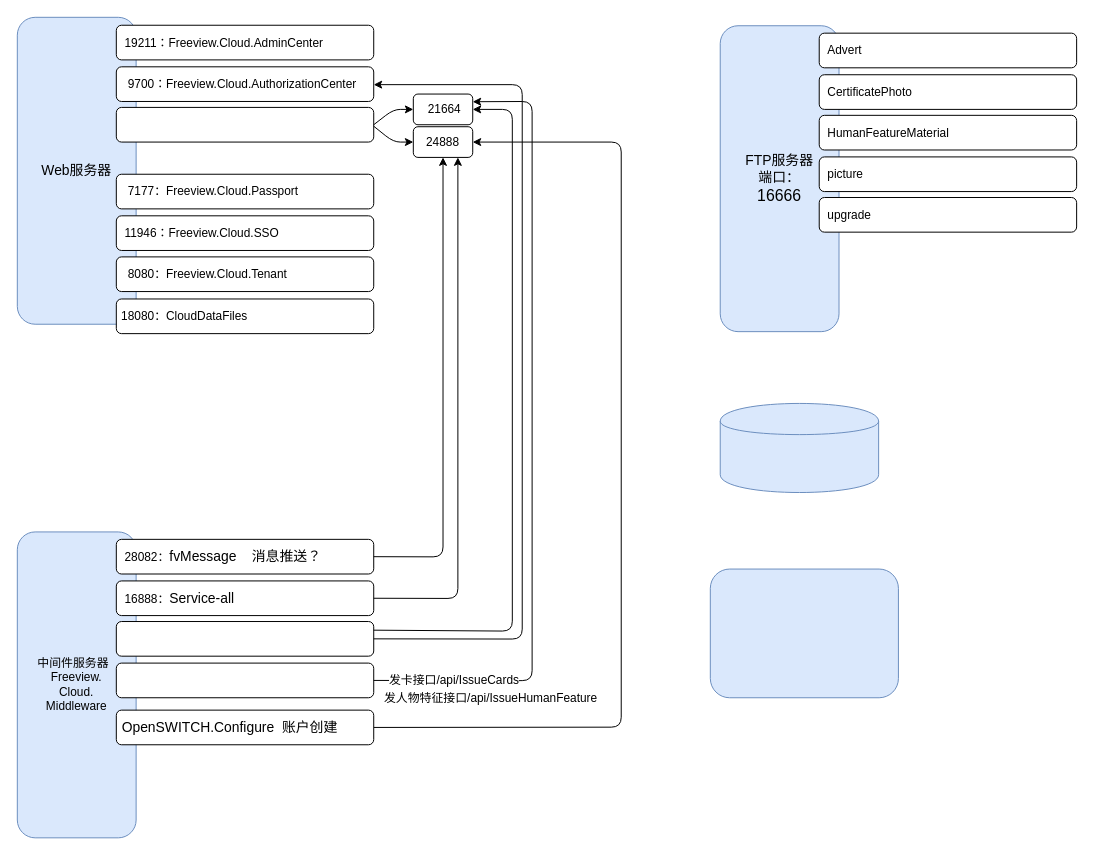
This 1094x855 diagram has some shape labels left out. The shapes that lost their labels are listed below. From the top down, each one's centre as x and y in pixels, then its label:
At pixel 244 124: "21664：24888： Freeview.Cloud.Engine".
At pixel 799 447: "SQL Server 数据库：AdminCenter".
At pixel 244 638: "16999： Query".
At pixel 803 633: "SIP服务器 OpenSWITCH SIP端口：56000 管理端口：8520".
At pixel 244 680: "SyncProcessService 同步".
